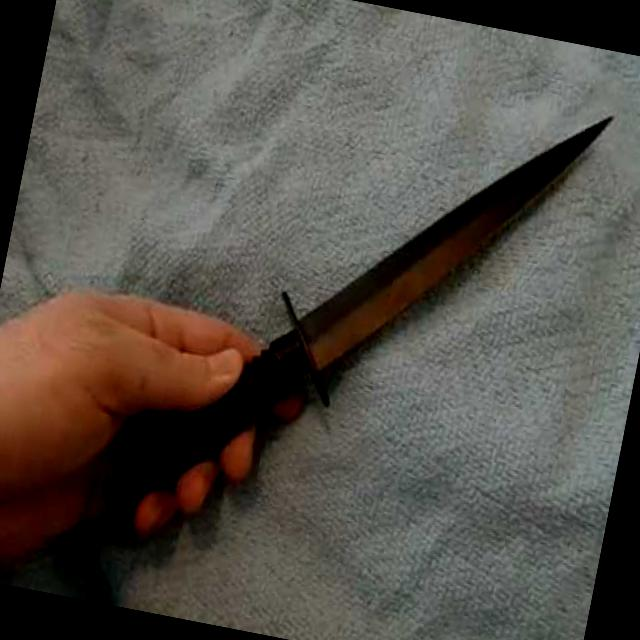knife: (154, 19, 634, 574)
